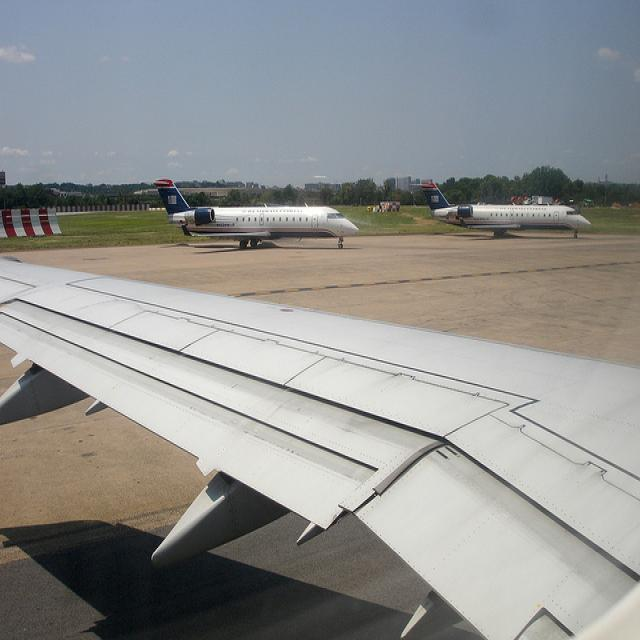airplane: (0, 249, 640, 640), (152, 177, 362, 251), (419, 177, 595, 241)
